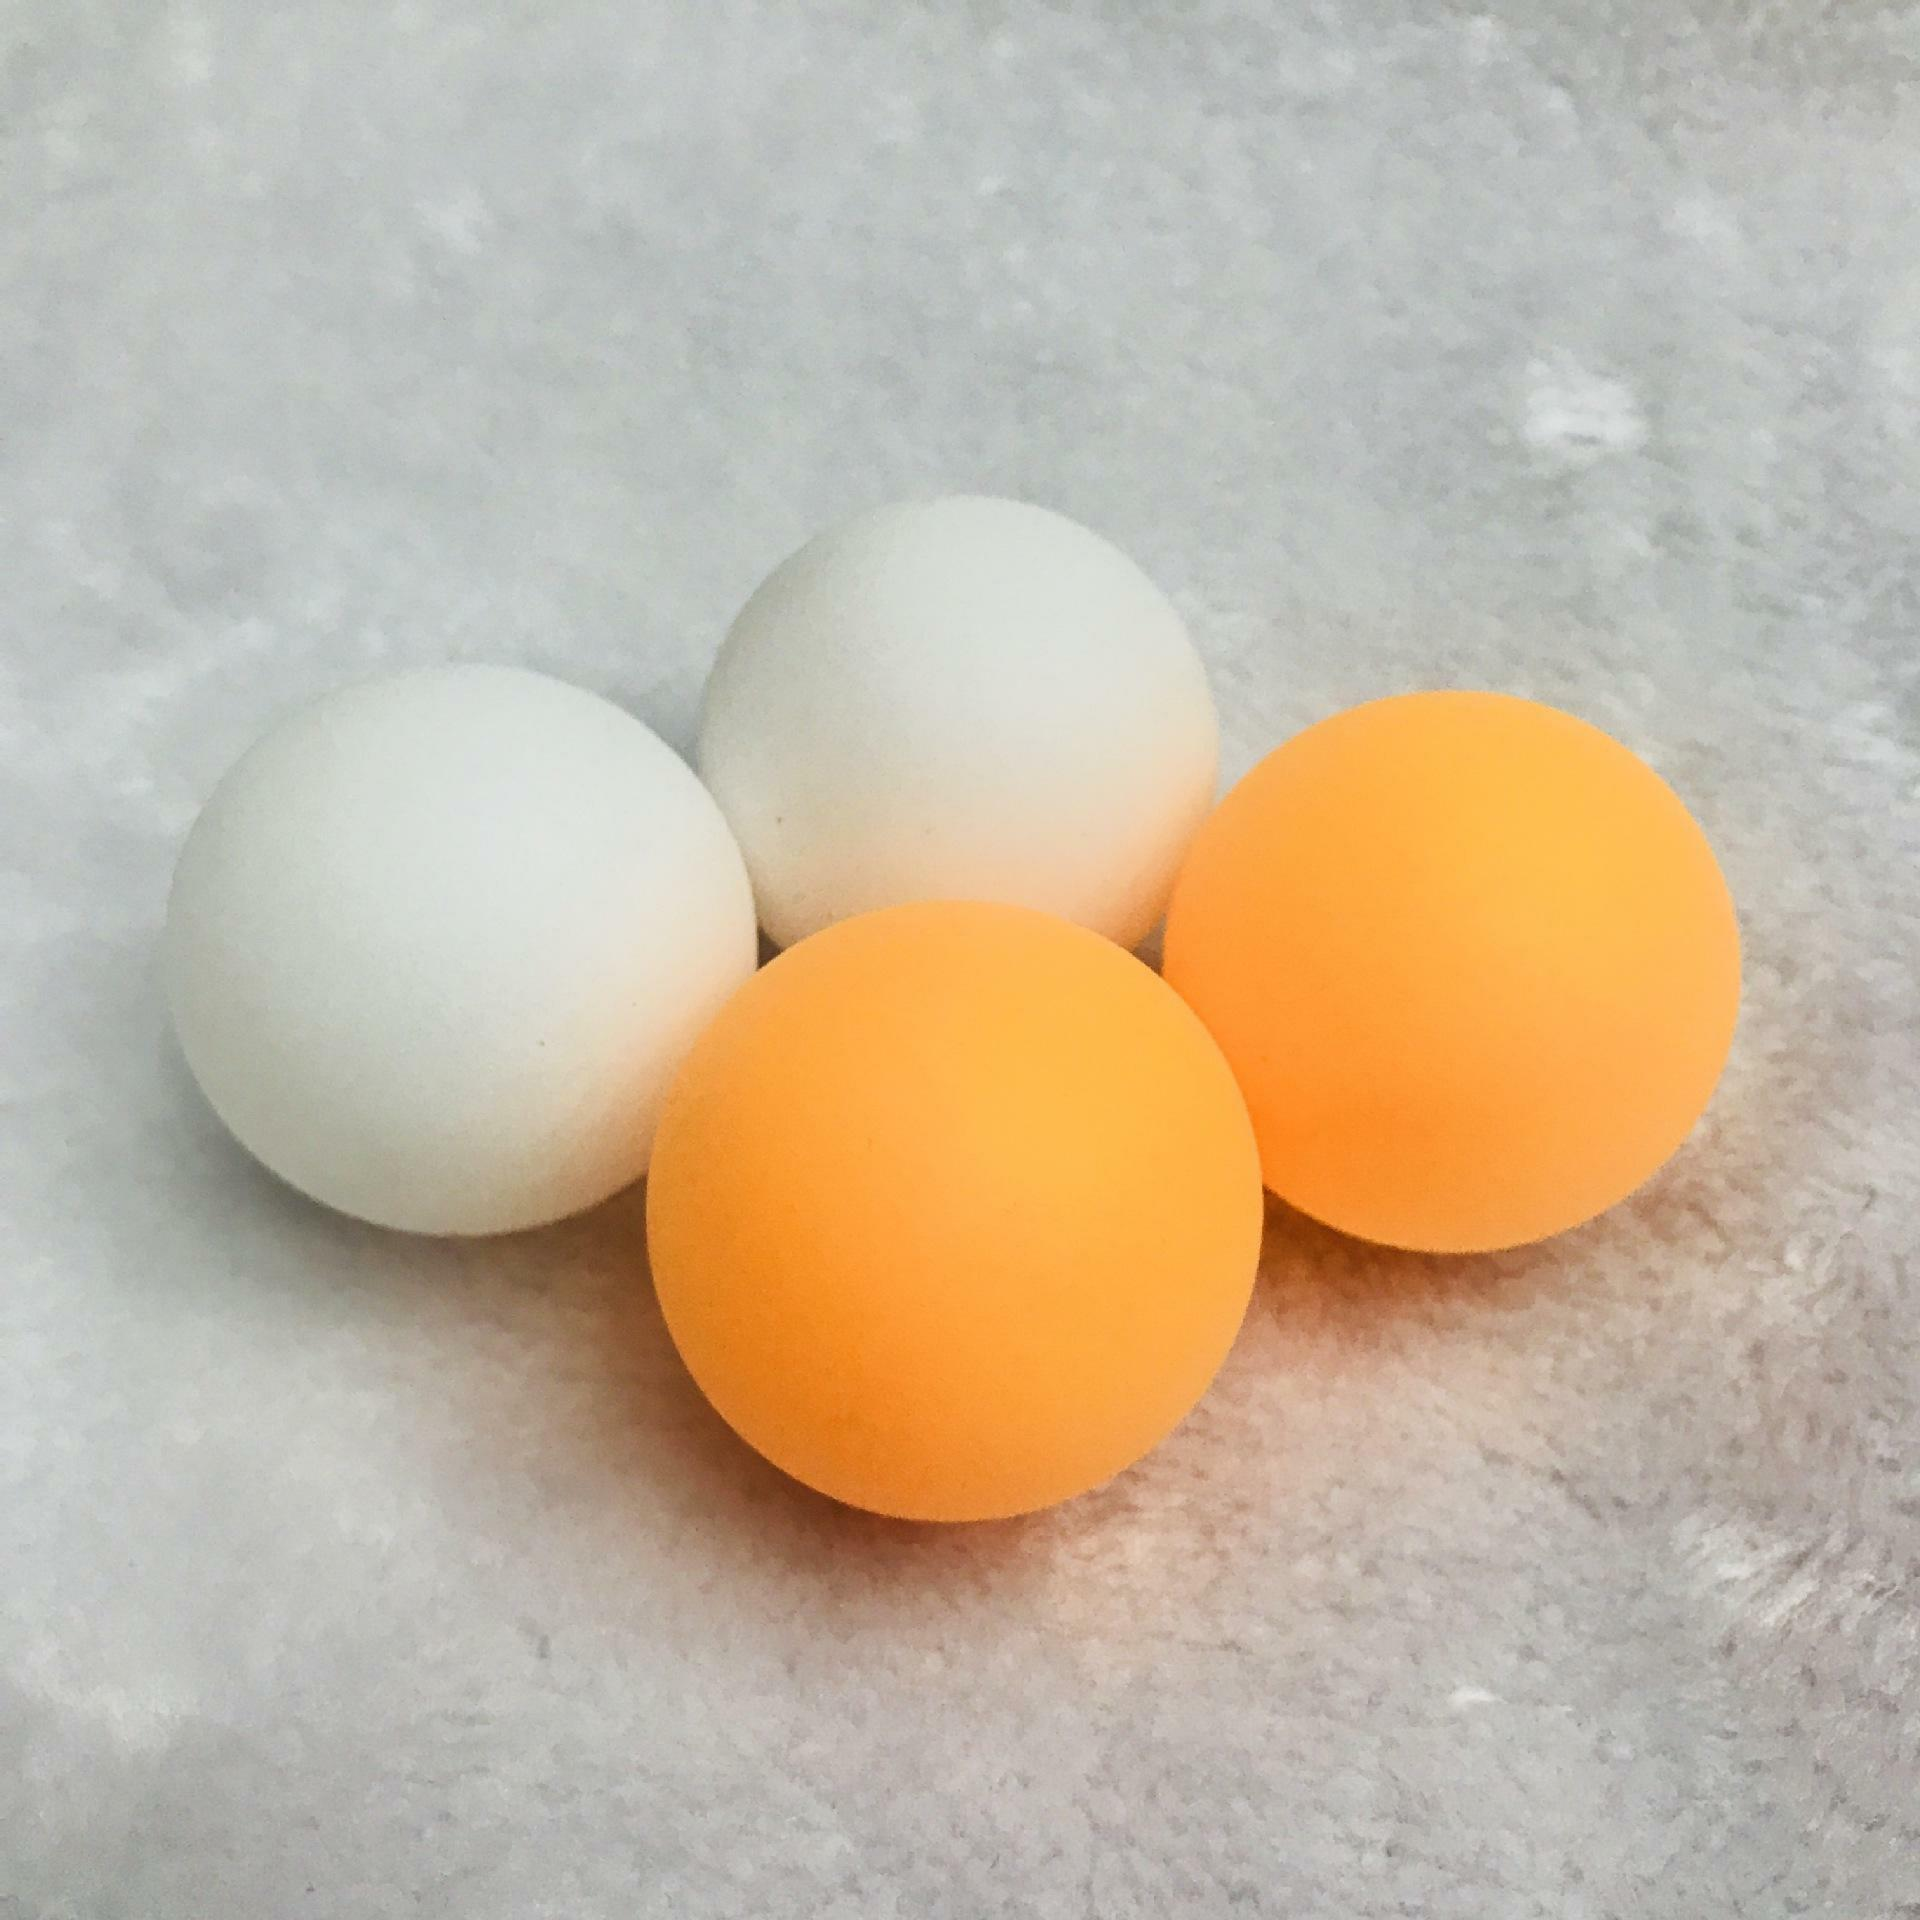ball: (621, 884, 1278, 1538), (1143, 672, 1756, 1275), (148, 652, 767, 1240), (682, 485, 1231, 997)
